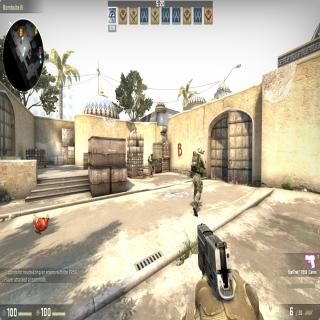CT-Body: (190, 143, 206, 215), (148, 150, 154, 177)
CT-Head: (197, 143, 205, 154), (150, 151, 153, 156)
